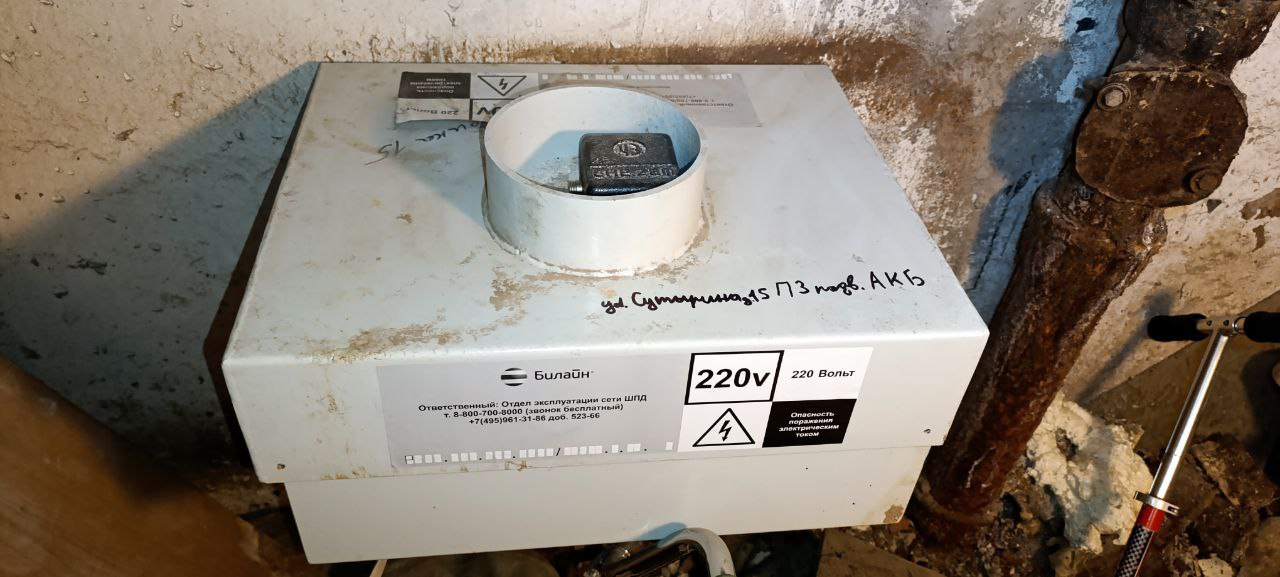shta-ps: (207, 54, 1000, 565)
